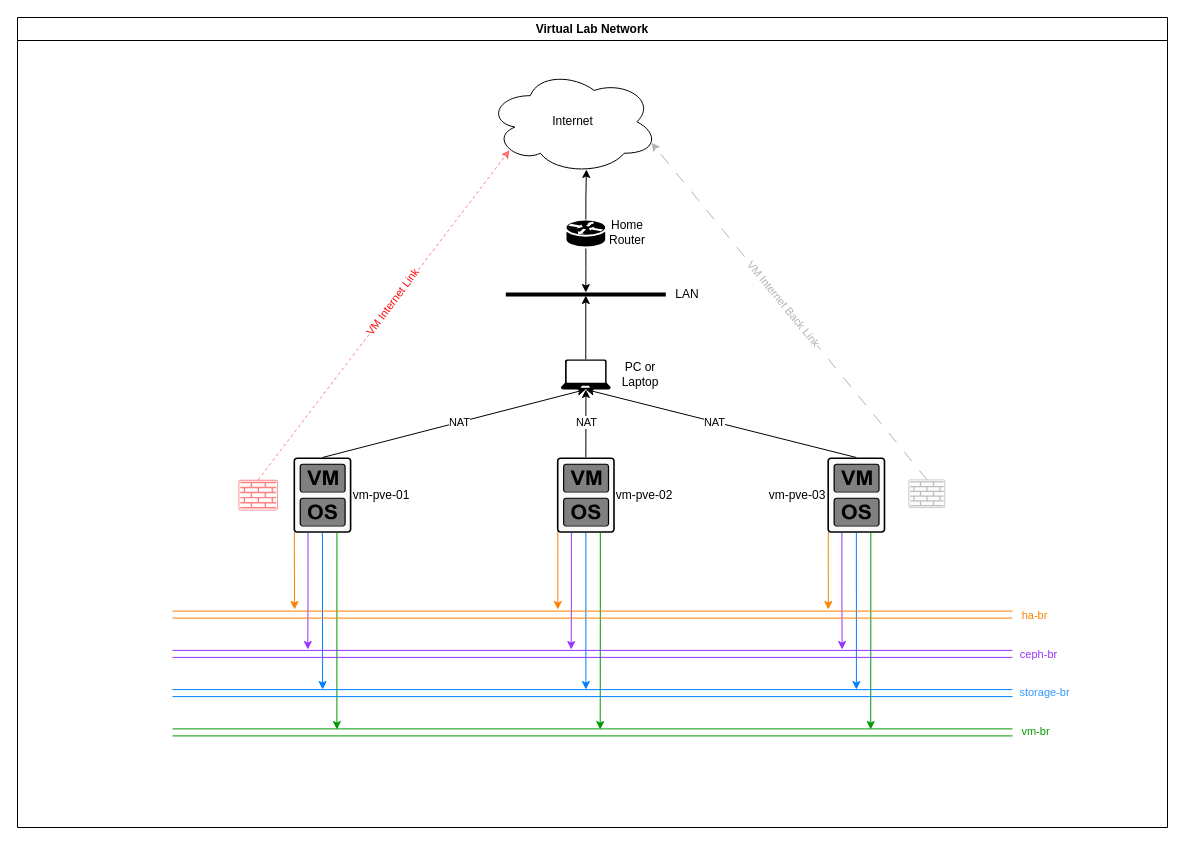
Some shapes in this 1185 by 845 pixel diagram are drawn without their labels. The shapes that lost their labels are listed below. From the top down, each one's box as (x1, y1, x2, y2) in pixels, then its label:
(238, 479, 278, 510): vm-fw-01
(908, 478, 945, 508): vm-fw-02
